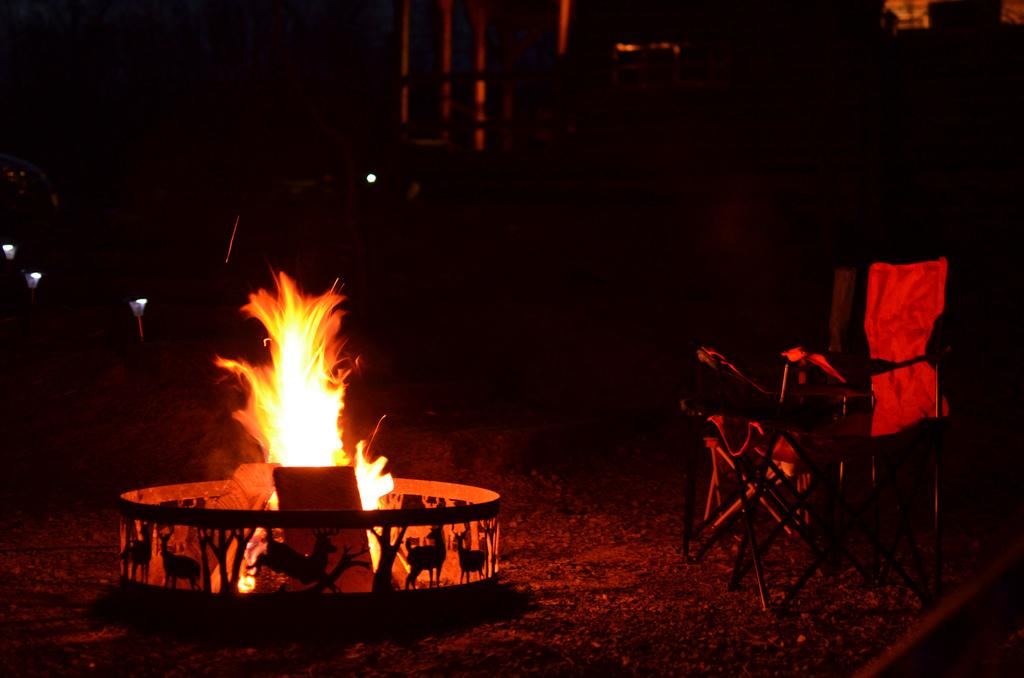fire: (258, 292, 340, 460)
